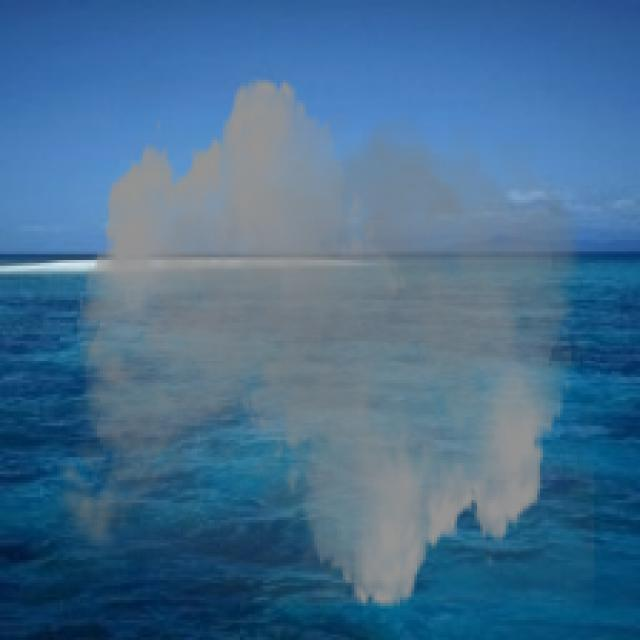smoke: (40, 60, 594, 626)
